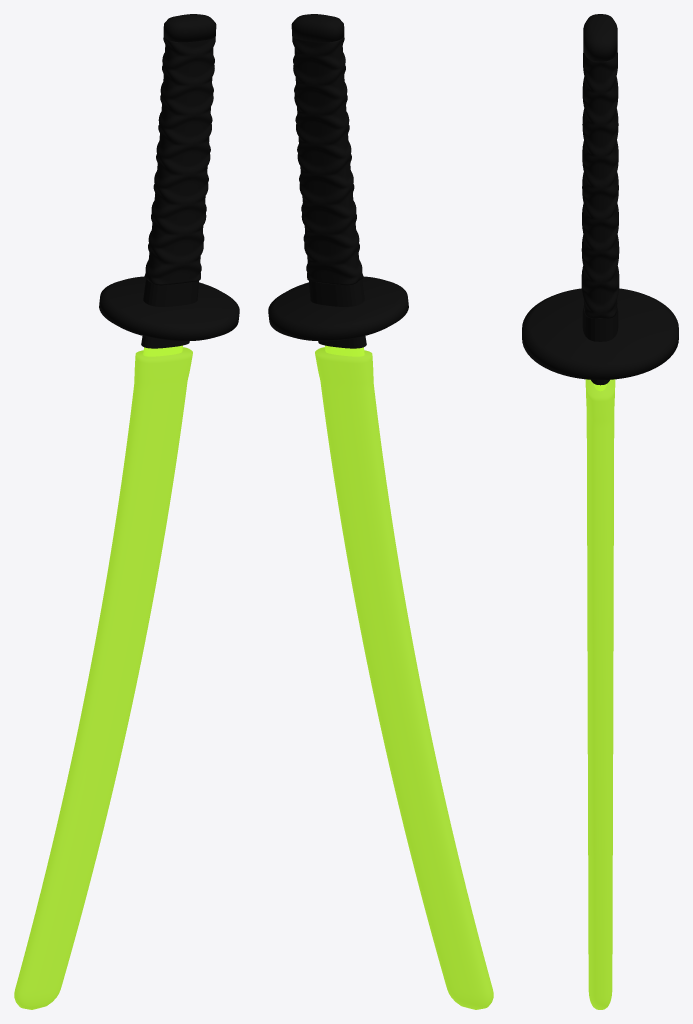
3 renders of one model, left to right at view 1: azimuth 30°, elevation 25°; view 2: azimuth 150°, elevation 25°; view 3: azimuth 270°, elevation 25°, orthographic. The views are drawn at different scales.
Visible parts, largest first — view 1: saya_body, saya_tsuka, saya_tsuba, saya_kashira, saya_fuchi; view 2: saya_body, saya_tsuka, saya_tsuba, saya_kashira, saya_fuchi; view 3: saya_body, saya_tsuba, saya_tsuka, saya_kashira, saya_fuchi.
Part boxes in pixels (x1,y1,x2,y2): saya_body: (14, 347, 192, 1009); saya_tsuka: (144, 37, 215, 285); saya_tsuba: (99, 276, 239, 341); saya_kashira: (163, 14, 216, 42); saya_fuchi: (143, 279, 198, 306); saya_body: (315, 347, 493, 1009); saya_tsuka: (292, 37, 363, 285); saya_tsuba: (268, 276, 408, 341); saya_kashira: (291, 14, 344, 42); saya_fuchi: (309, 279, 364, 306); saya_body: (585, 379, 615, 1009); saya_tsuba: (522, 288, 678, 379); saya_tsuka: (581, 50, 619, 318); saya_kashira: (583, 14, 617, 61); saya_fuchi: (582, 298, 618, 341).
Bounding box in the file's own units: 0.4796 × 2.04 × 0.272.
